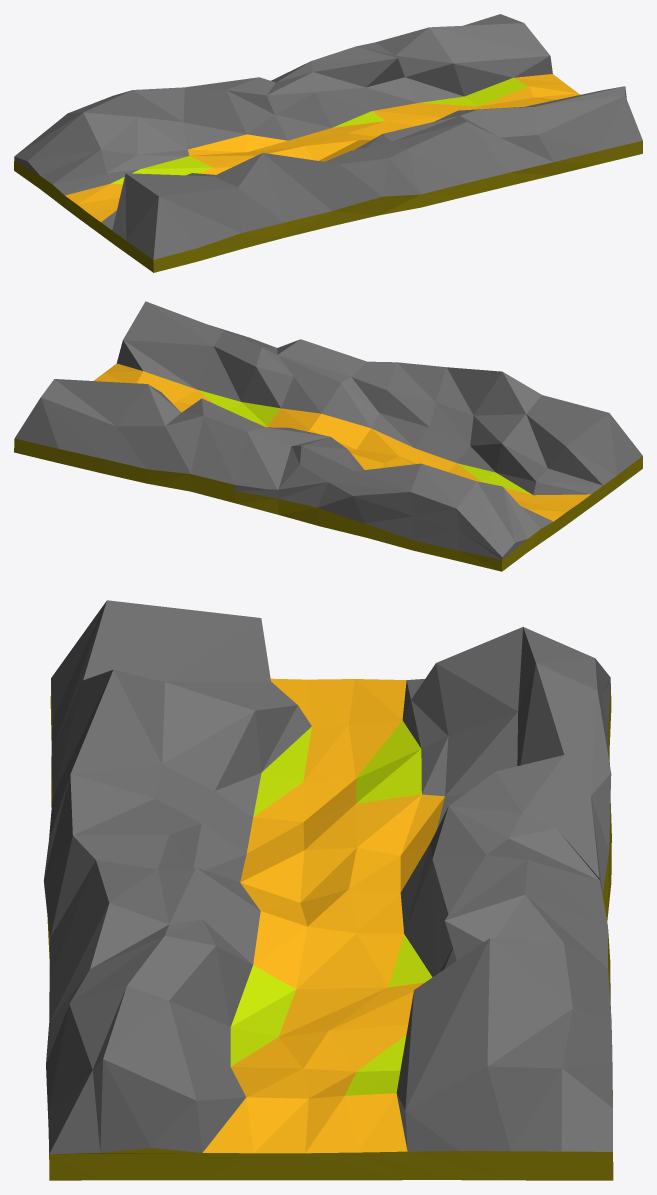
File: PlaneAutumn3.fbx
The picture shows the model from 3 angles, top to bottom: view 1: azimuth 30°, elevation 25°; view 2: azimuth 150°, elevation 25°; view 3: azimuth 270°, elevation 25°; orthographic projection. The views are drawn at different scales.
Parts seen in each view (by area): view 1: PlaneAutumn3.Cliffs, PlaneAutumn3.Road, PlaneAutumn3.Floor, PlaneAutumn3.RoadEdge; view 2: PlaneAutumn3.Cliffs, PlaneAutumn3.Floor, PlaneAutumn3.Road, PlaneAutumn3.RoadEdge; view 3: PlaneAutumn3.Cliffs, PlaneAutumn3.Road, PlaneAutumn3.Floor, PlaneAutumn3.RoadEdge.
Boxes of the visible parts, x1=… form: PlaneAutumn3.Cliffs: x1=14, y1=14, x2=642, y2=259; PlaneAutumn3.Road: x1=65, y1=74, x2=580, y2=221; PlaneAutumn3.Floor: x1=14, y1=140, x2=642, y2=272; PlaneAutumn3.RoadEdge: x1=111, y1=78, x2=528, y2=184; PlaneAutumn3.Cliffs: x1=15, y1=301, x2=642, y2=559; PlaneAutumn3.Floor: x1=14, y1=438, x2=642, y2=571; PlaneAutumn3.Road: x1=93, y1=363, x2=590, y2=521; PlaneAutumn3.RoadEdge: x1=197, y1=389, x2=532, y2=494; PlaneAutumn3.Cliffs: x1=44, y1=600, x2=612, y2=1154; PlaneAutumn3.Road: x1=203, y1=678, x2=444, y2=1153; PlaneAutumn3.Floor: x1=45, y1=682, x2=613, y2=1180; PlaneAutumn3.RoadEdge: x1=230, y1=720, x2=432, y2=1095.
Size of the model in its own units: 40101 by 6227 by 20204.
